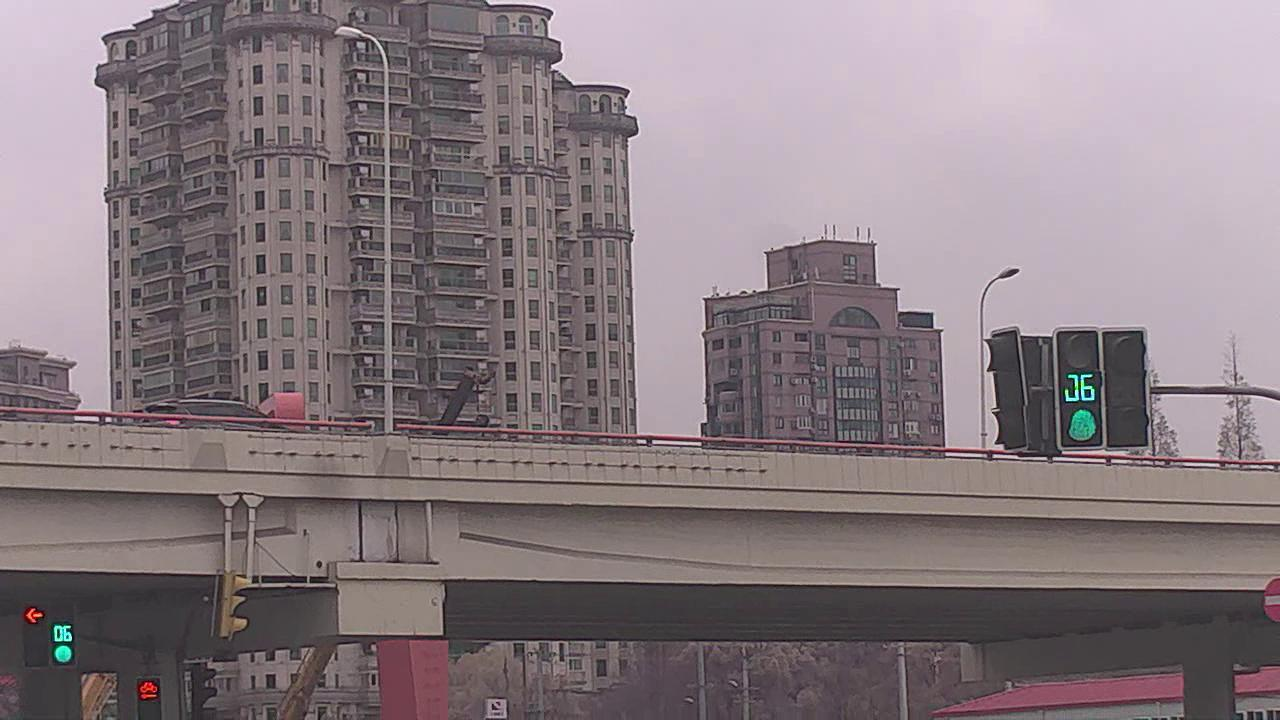traffic_light: (1055, 327, 1102, 453), (1104, 329, 1149, 453), (49, 604, 76, 671), (22, 604, 49, 670), (138, 676, 163, 720)
